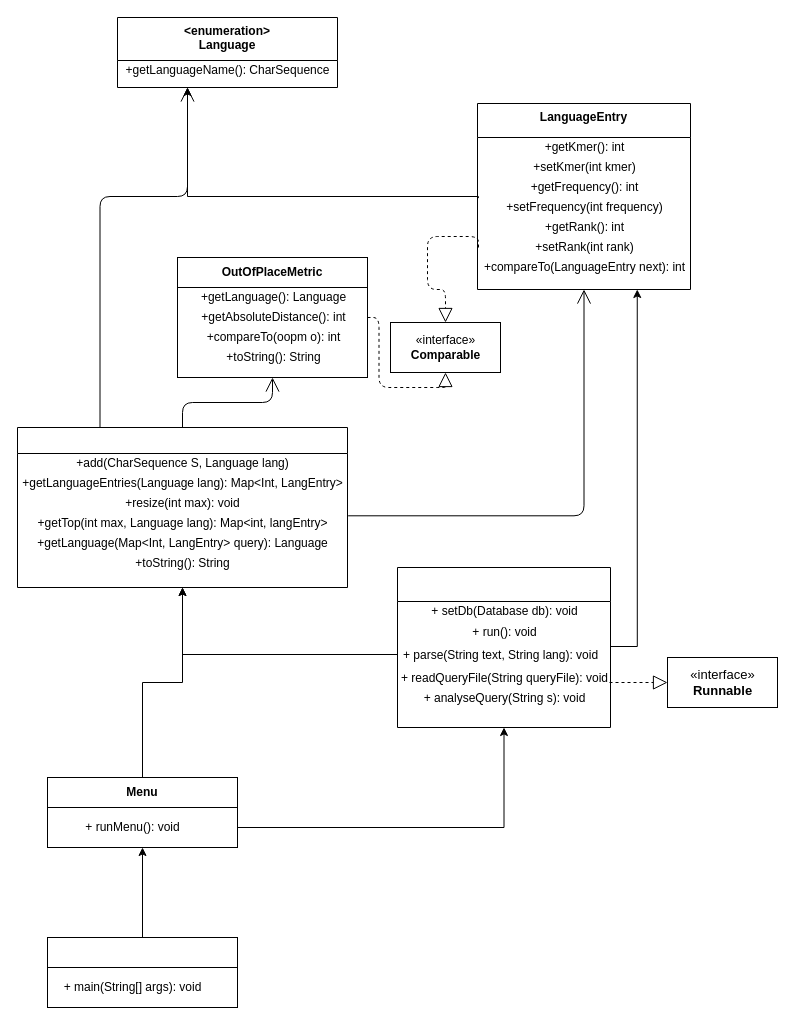
Image size: 795x1025. Some labels were removed from this diagram. The shapes that lost their labels are listed below. From the top down, each one's box as (x1, y1, x2, y2) in pixels, then its label:
(16, 426, 348, 588): Database
(396, 566, 610, 728): Parser
(46, 936, 238, 968): Runner
